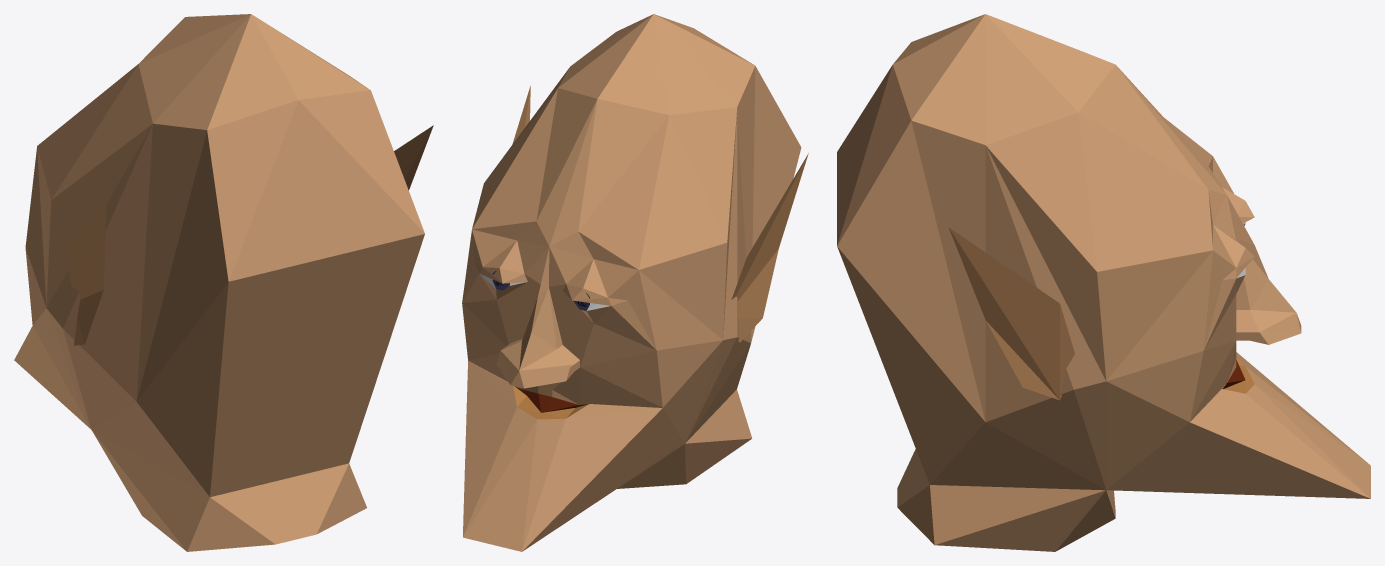
File: npc_chat_rometti_0.obj
3 renders of one model, left to right at view 1: azimuth 30°, elevation 25°; view 2: azimuth 150°, elevation 25°; view 3: azimuth 270°, elevation 25°, orthographic. The views are drawn at different scales.
Size of the model in its own units: 0.625 by 0.9297 by 0.8984.
